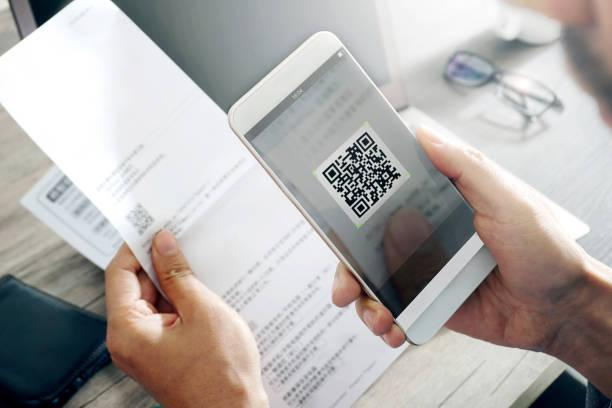Finder pattern: (319, 162, 345, 185), (350, 198, 372, 220), (355, 132, 377, 153)
